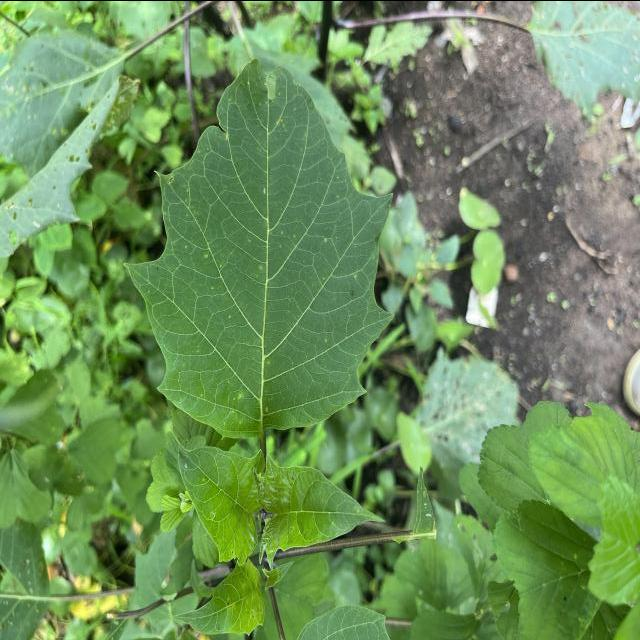Datura metal linn: (120, 54, 399, 443), (248, 451, 387, 572), (166, 422, 265, 566), (168, 559, 268, 640)
